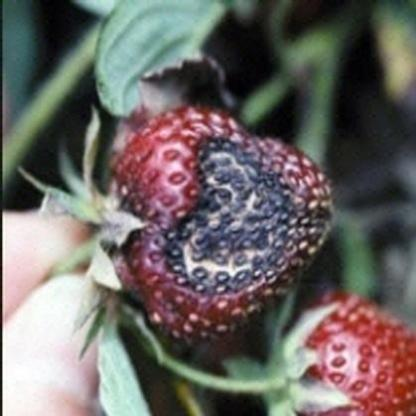Strawberry_Anthracnose_Fruit_Rot: (102, 126, 334, 346)
